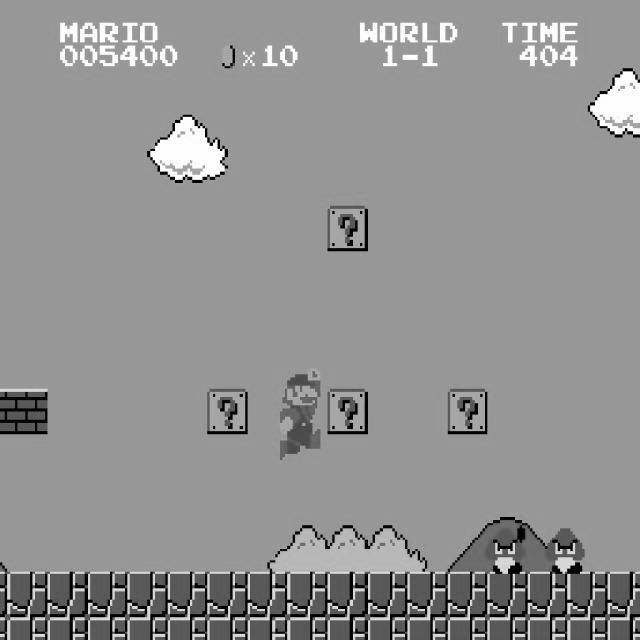0- big_mario: (277, 366, 320, 460)
1- brick_block: (7, 388, 48, 434), (0, 388, 7, 434)
13- mystery_block: (207, 388, 248, 434), (327, 388, 368, 434), (447, 388, 488, 434), (327, 206, 368, 251)
17- undestructible_block: (7, 572, 48, 618), (47, 572, 88, 618), (87, 572, 128, 618), (127, 572, 168, 618), (167, 572, 208, 618), (207, 572, 248, 618), (247, 572, 288, 618), (287, 572, 328, 618), (327, 572, 368, 618), (367, 572, 408, 618), (407, 572, 448, 618), (447, 572, 488, 618), (487, 572, 528, 618), (527, 572, 568, 618), (567, 572, 608, 618), (607, 571, 640, 617), (7, 617, 48, 640), (47, 617, 88, 640), (87, 617, 128, 640), (127, 617, 168, 640), (167, 617, 208, 640), (207, 617, 248, 640), (247, 617, 288, 640), (287, 617, 328, 640), (327, 617, 368, 640), (367, 617, 408, 640), (407, 617, 448, 640), (447, 617, 488, 640), (487, 617, 528, 640), (527, 617, 568, 640), (567, 617, 608, 640), (607, 617, 640, 639), (0, 572, 7, 618), (0, 617, 7, 640)
8- goomba: (482, 526, 526, 574), (542, 526, 585, 574)
